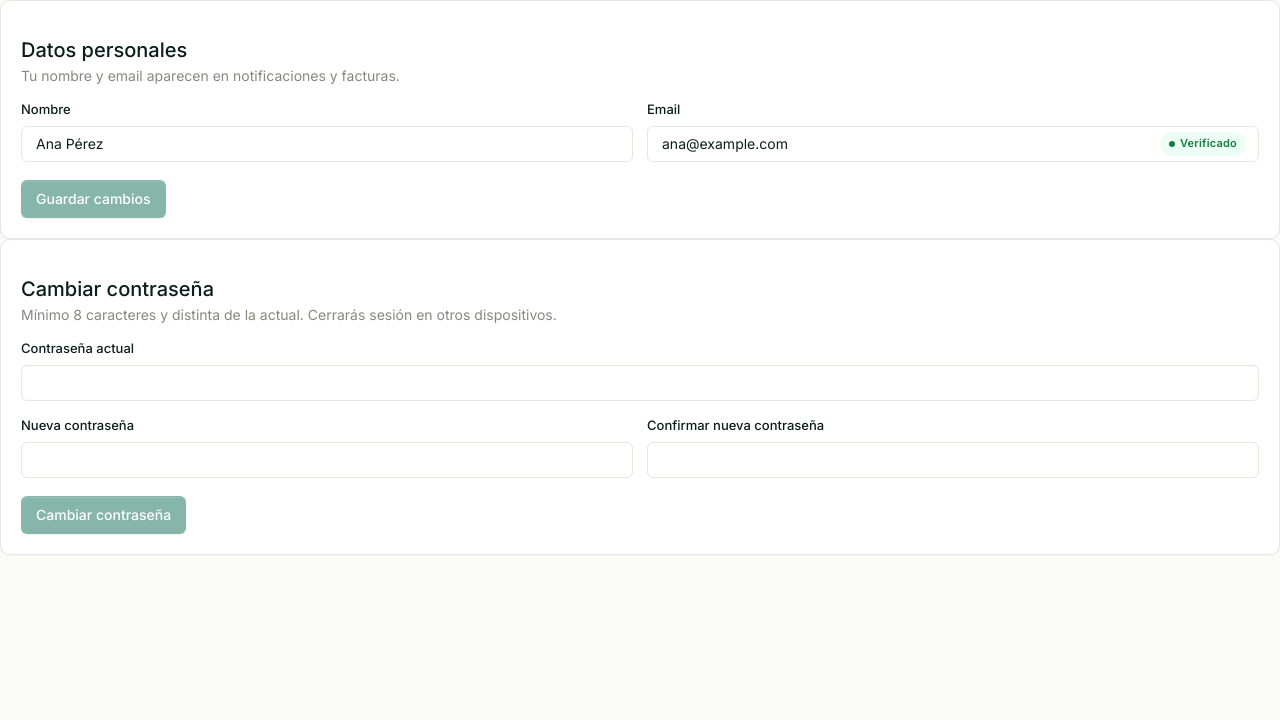
Test: AccountTabPerfil › al pulsar Descartar restaura los valores originales
Replace the text in the 1st field showing "Ana Pérez" with "Ana López" at (327, 144), box [34,134,620,154]
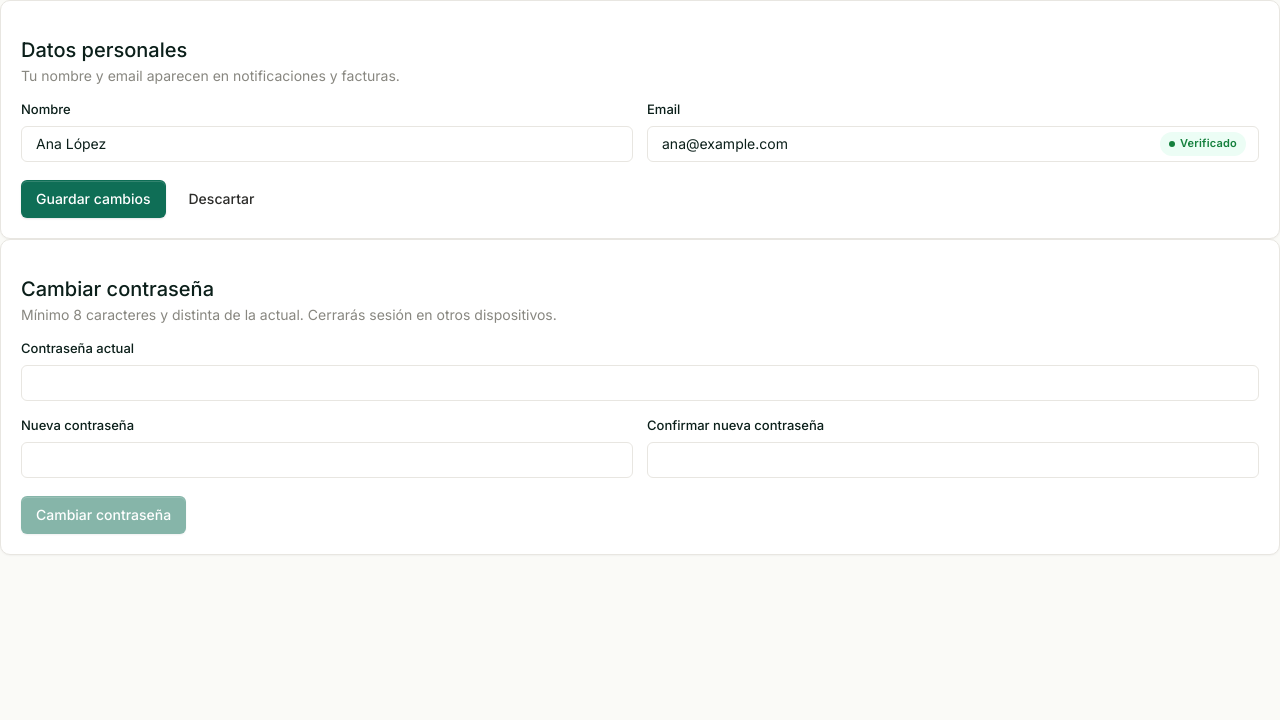
Click the button "Descartar" at (221, 199), box [174,180,269,218]
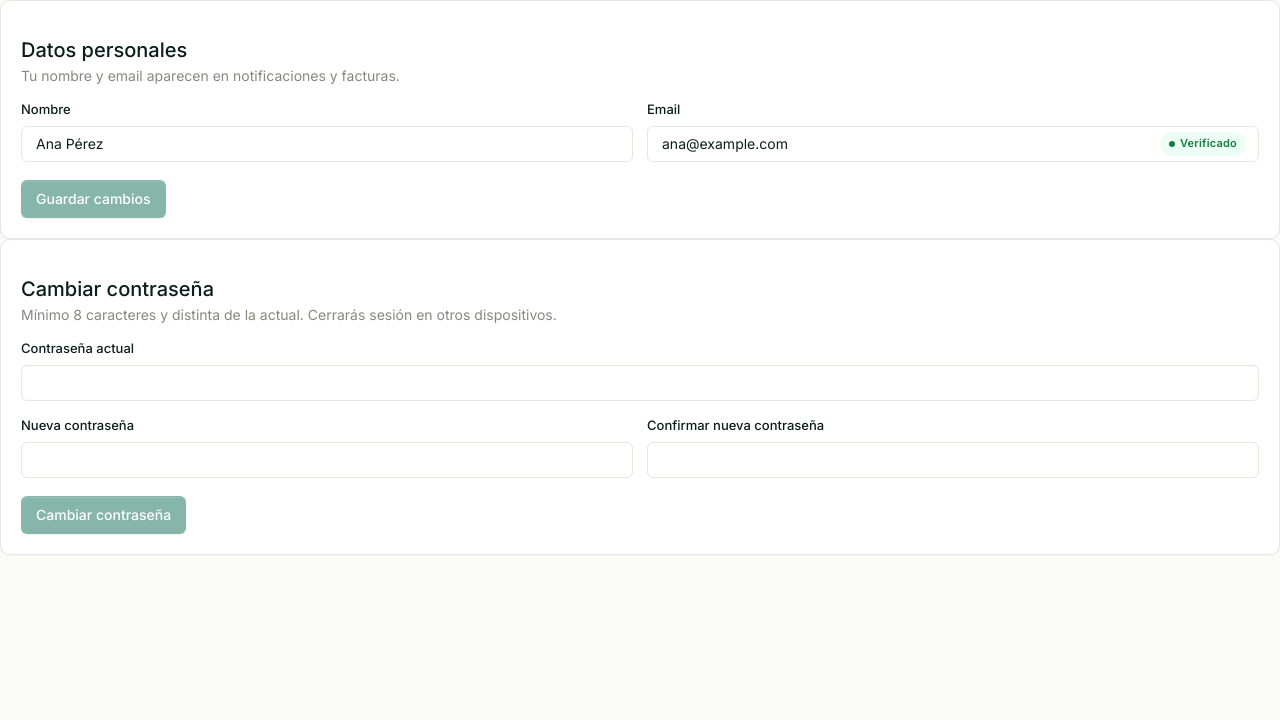
Expected: the 1st field showing "Ana Pérez" is shown, [34,134,620,154]
